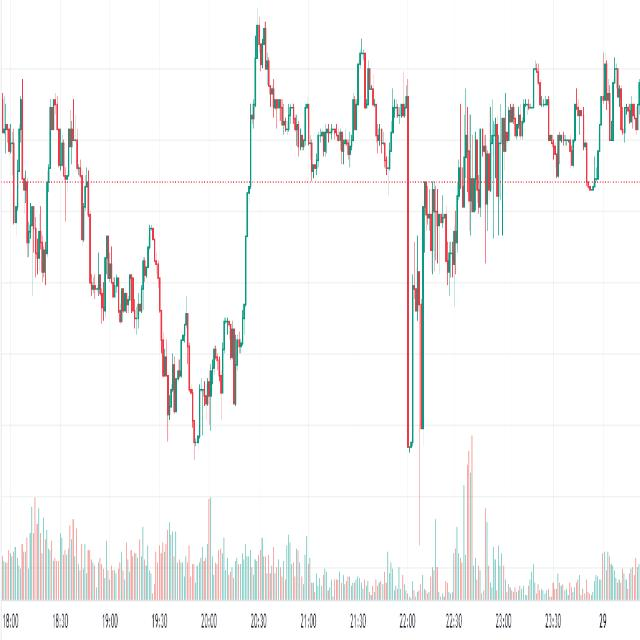Double-Bottom: (161, 334, 184, 425)
